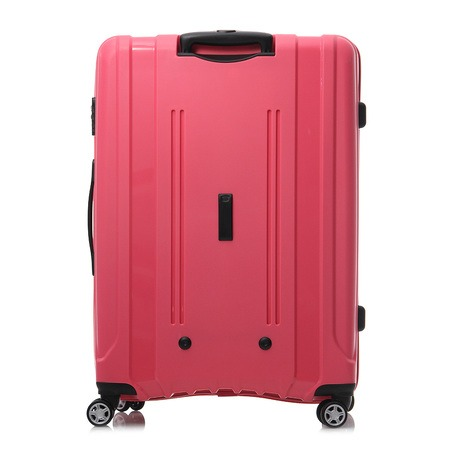luggage: (86, 30, 367, 427)
